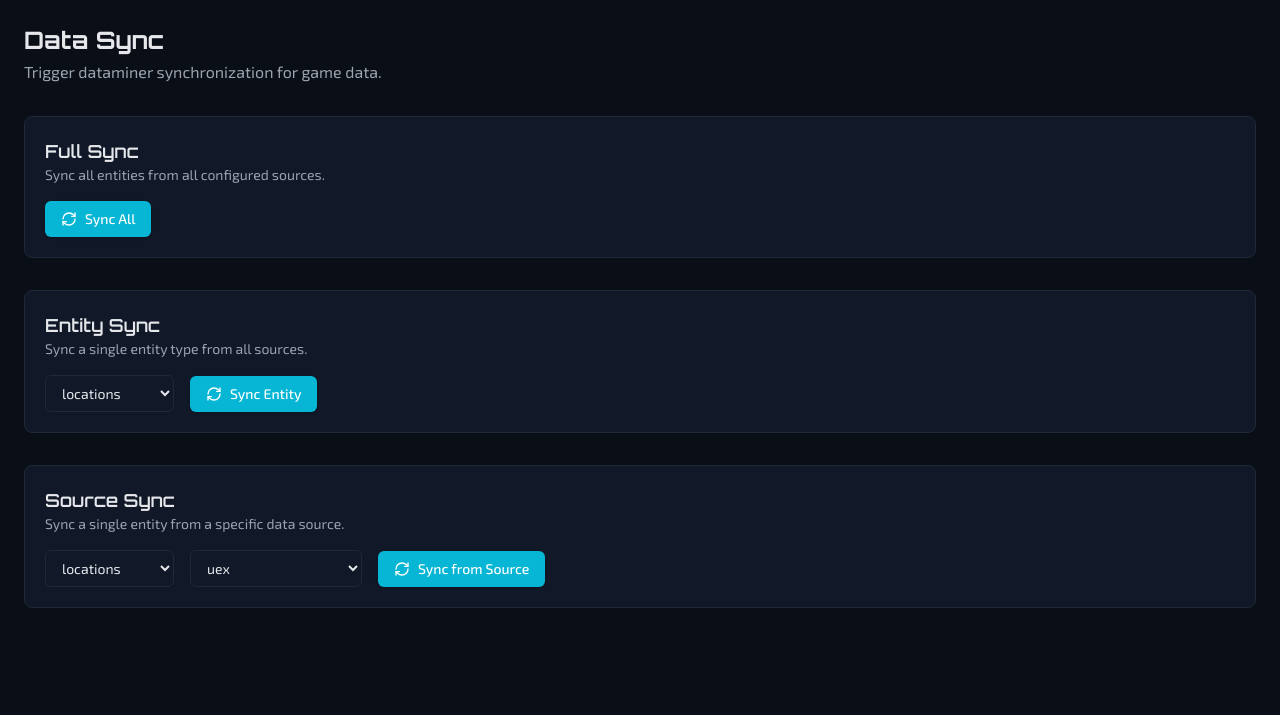
Scenario: SyncPage › full sync shows results on success
Click the button "Sync All". click: (98, 219)
box: [45,201,152,237]
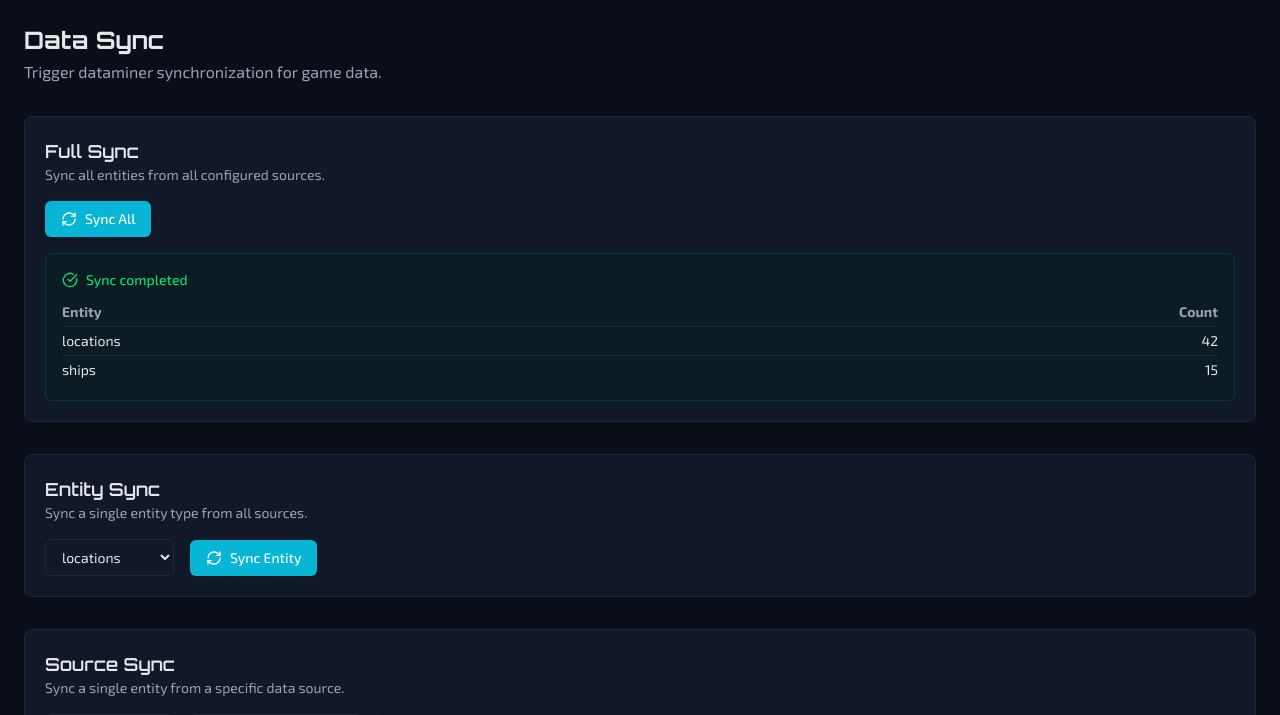
Expected: the text "Sync completed" is shown, [86,270,188,290]
Expected: the text "42" is shown, [757,326,1218,356]
Expected: the text "15" is shown, [757,356,1218,384]
